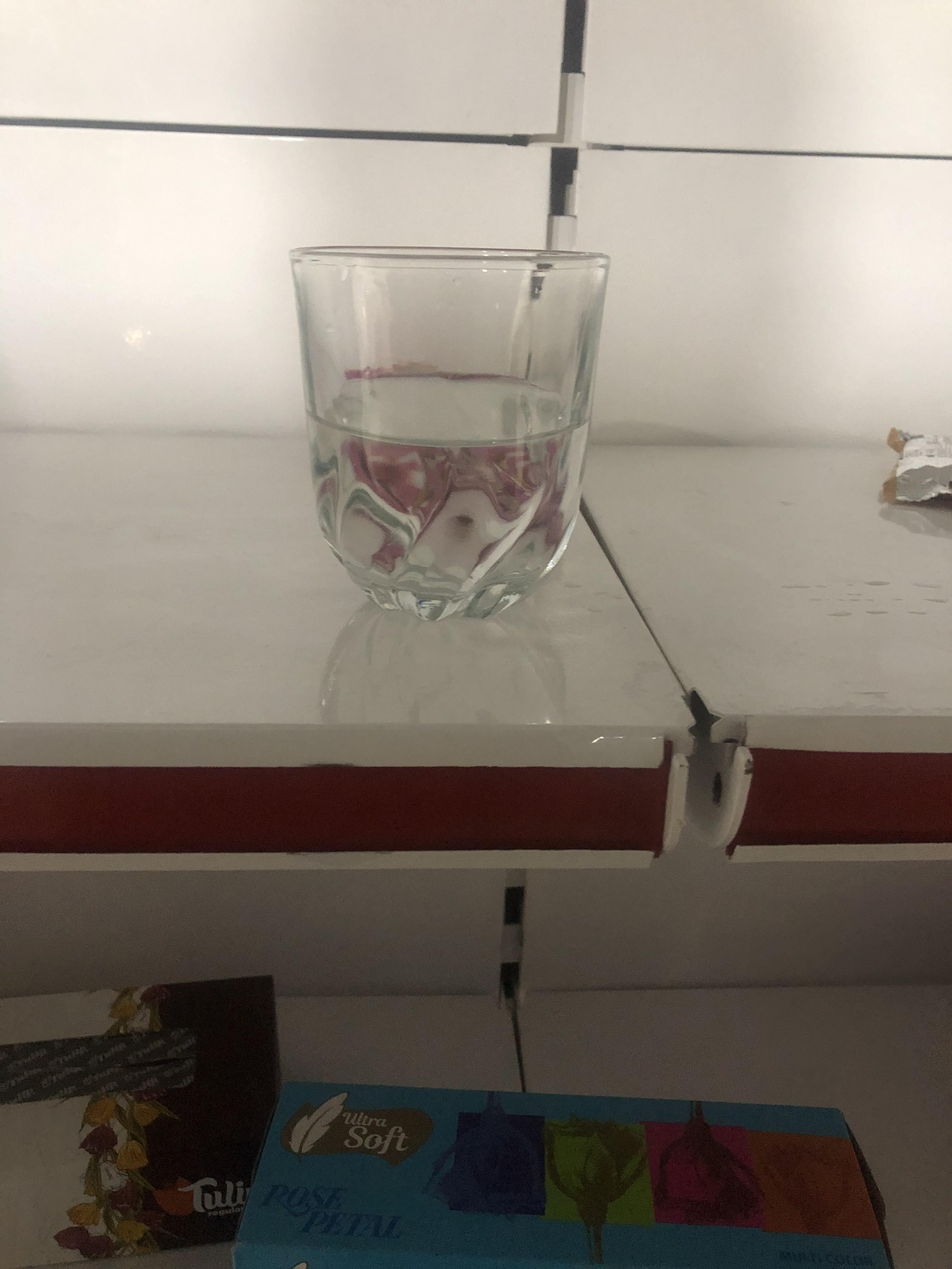glass-normal: (272, 227, 623, 625)
